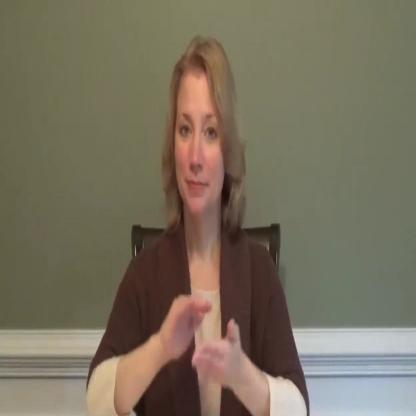ExcuseMe: (85, 21, 313, 416)
